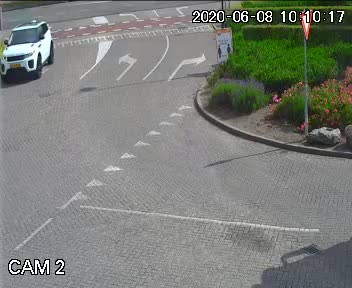car: (0, 17, 60, 87)
